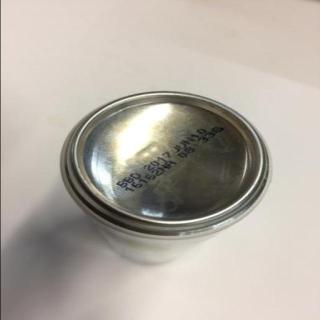Anorganik: (54, 88, 278, 272)
